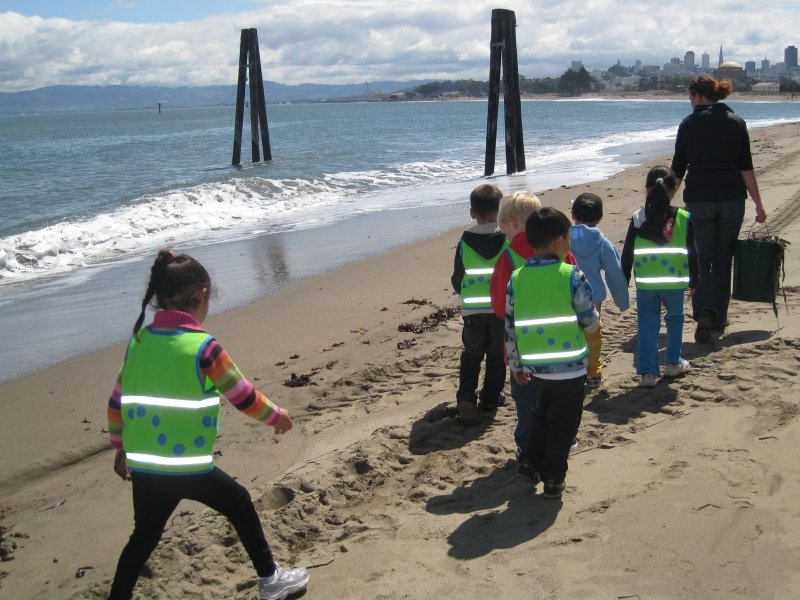person with partial safety: (107, 245, 300, 600), (506, 221, 595, 498), (452, 184, 516, 421), (624, 168, 692, 391)
person without safety: (675, 76, 750, 347), (566, 196, 620, 377)
safety vest: (121, 332, 225, 477), (510, 265, 590, 363), (633, 201, 691, 298), (460, 245, 500, 305)
